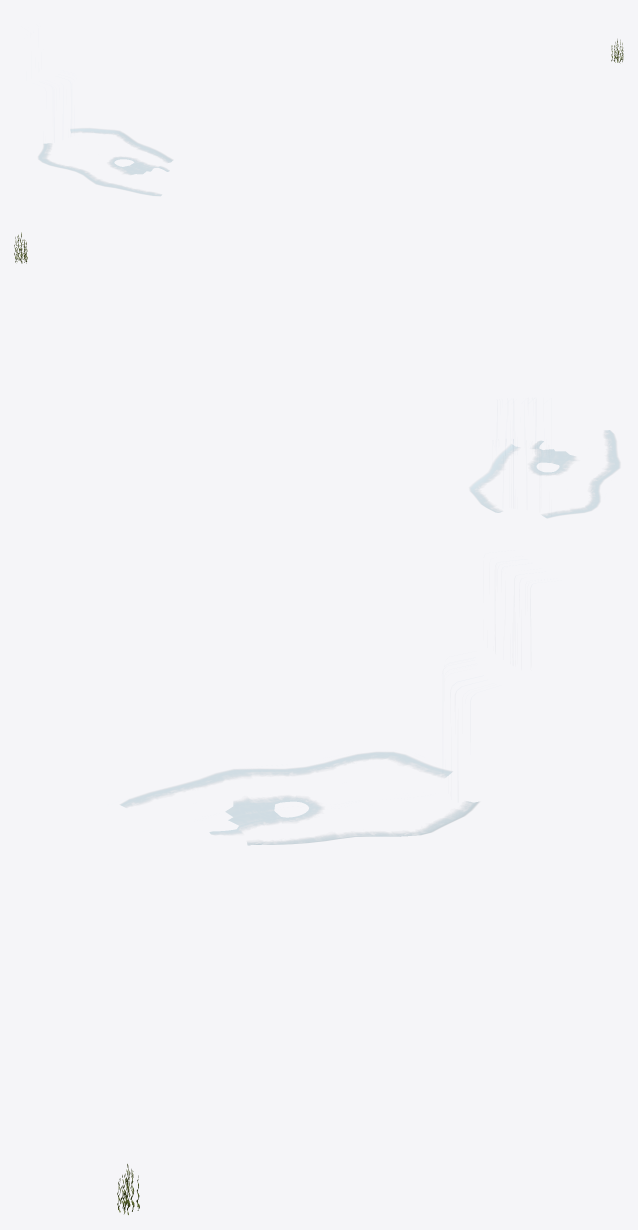
Rendered from skybox.glb.
The picture shows the model from 3 angles, top to bottom: view 1: azimuth 30°, elevation 25°; view 2: azimuth 150°, elevation 25°; view 3: azimuth 270°, elevation 25°; orthographic projection. The views are drawn at different scales.
Visible parts, largest first — view 1: Plane.112; view 2: Plane.112; view 3: Plane.112.
Part boxes in pixels (x1,y1,x2,y2): Plane.112: (38, 128, 172, 195); Plane.112: (469, 430, 619, 518); Plane.112: (120, 752, 478, 845).
Bounding box in the file's own units: 80.45 × 15.43 × 33.02.
2 materials, 2 textured.
